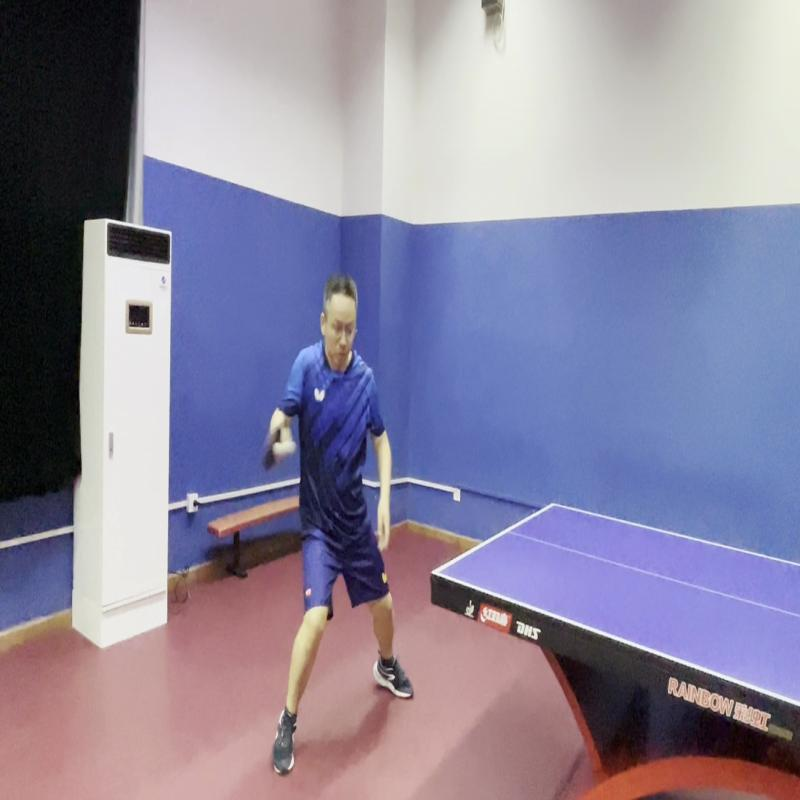bats: (258, 415, 293, 484)
